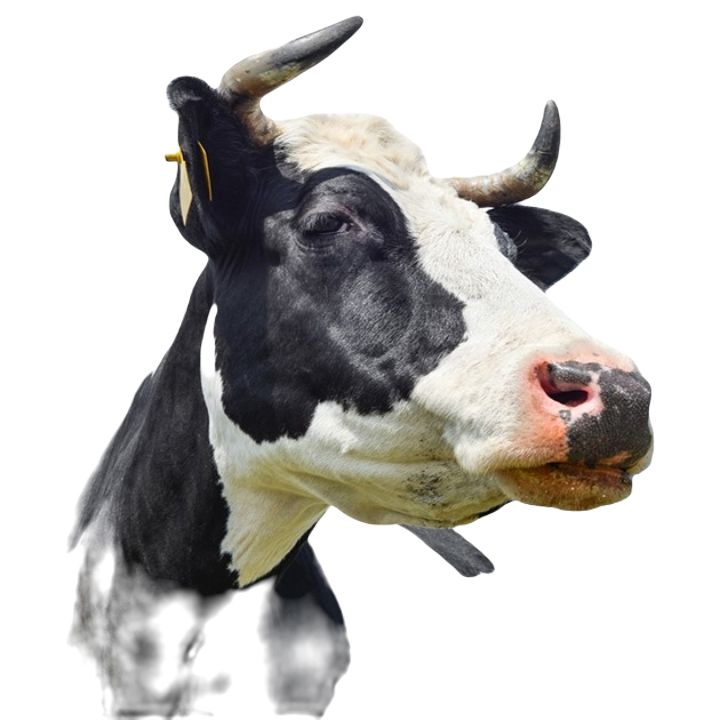Cow: (61, 18, 651, 714)
